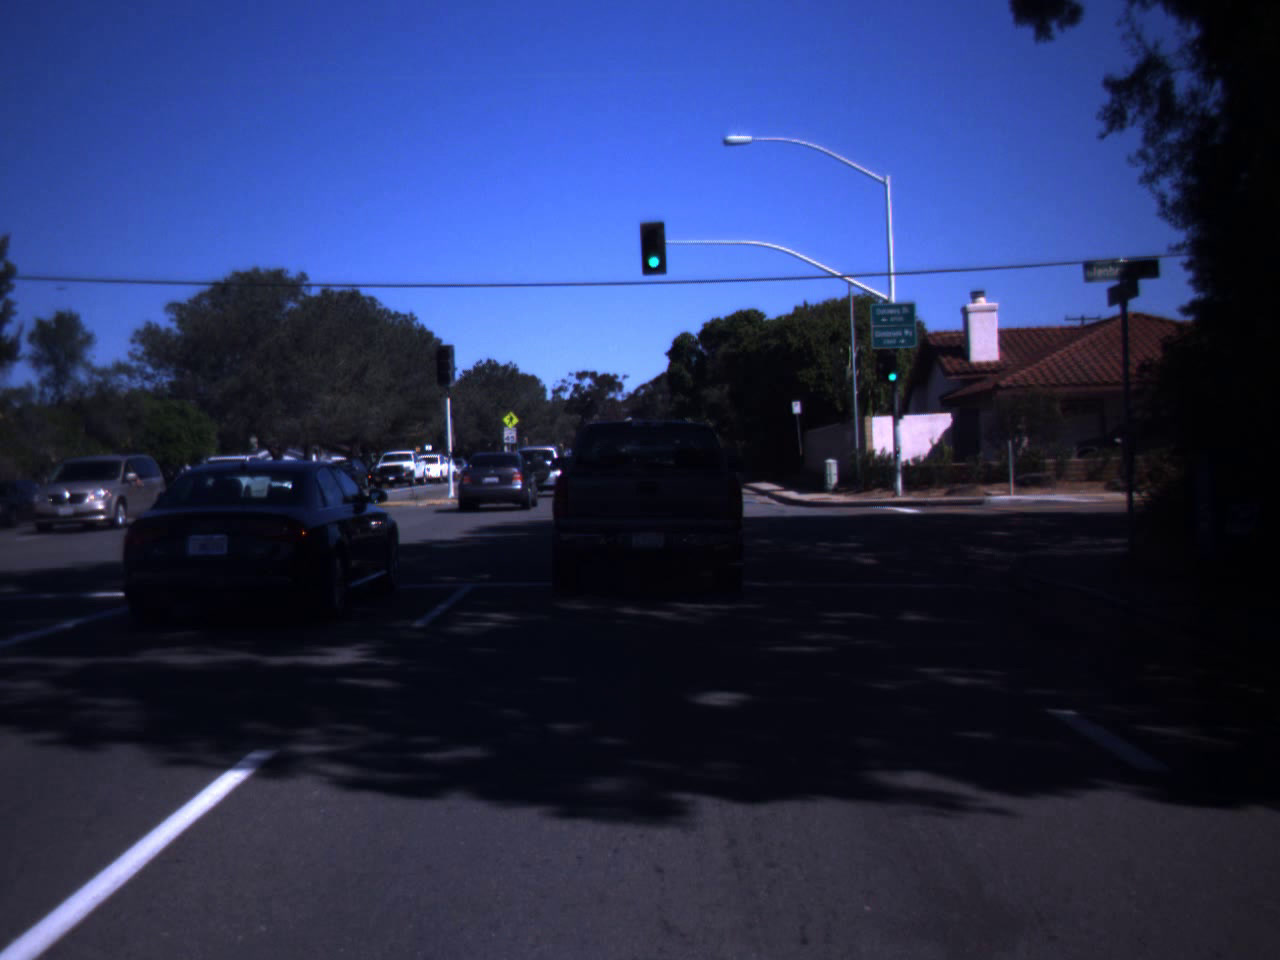go: (642, 230, 666, 270), (884, 353, 902, 383)
